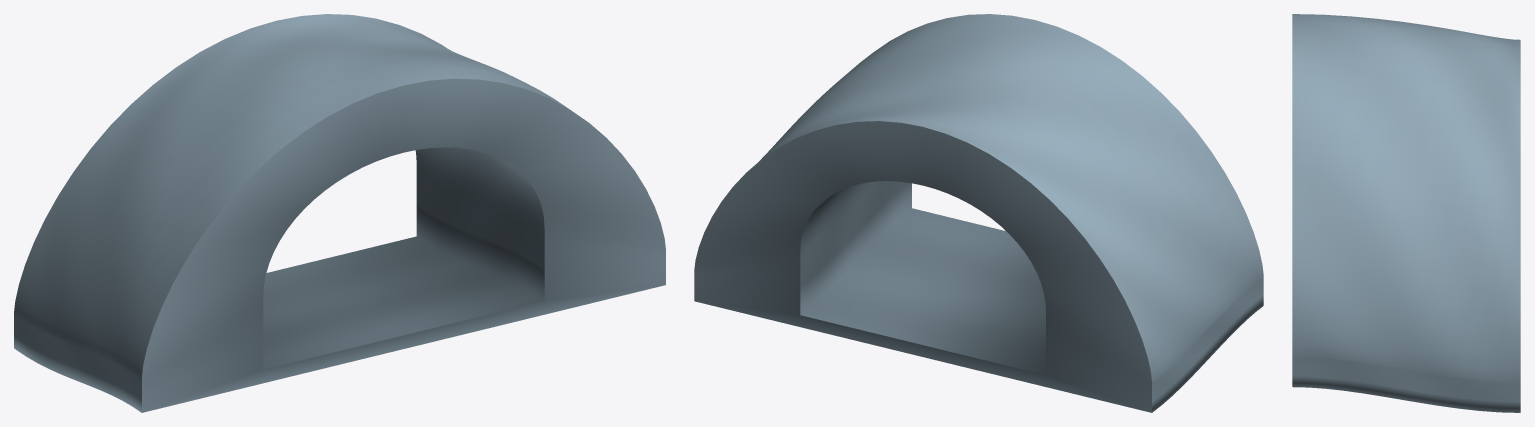
File: grade_down_terrain.glb
3 views of the same model, side by side, from view 1: azimuth 30°, elevation 25°; view 2: azimuth 150°, elevation 25°; view 3: azimuth 270°, elevation 25° (orthographic). The views are drawn at different scales.
Visible parts, largest first — view 1: TerrainRoof.010; view 2: TerrainRoof.010; view 3: TerrainRoof.010.
Part boxes in pixels (x1=…): TerrainRoof.010: x1=14, y1=14, x2=665, y2=412; TerrainRoof.010: x1=694, y1=14, x2=1263, y2=412; TerrainRoof.010: x1=1292, y1=14, x2=1520, y2=412.
Size of the model in its own units: 28.4 by 15.15 by 12.
